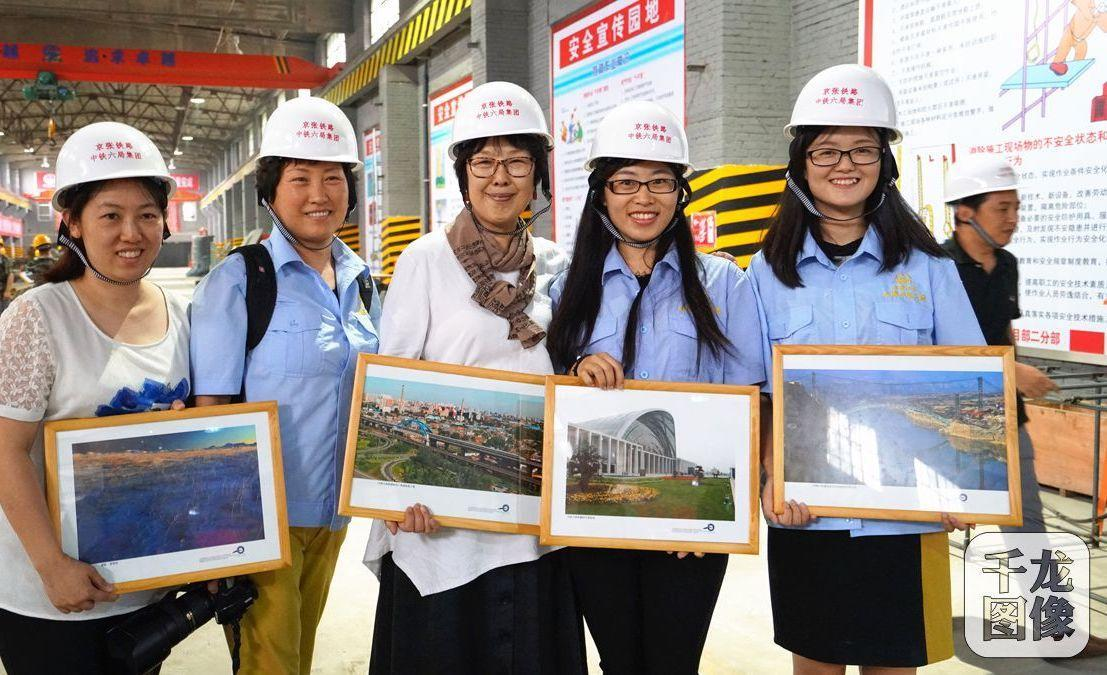helmet: (238, 106, 379, 169), (49, 122, 172, 193), (590, 103, 700, 166), (796, 67, 900, 133), (452, 79, 555, 143), (937, 153, 1027, 198)
no-gloves: (33, 554, 118, 612), (756, 483, 819, 528), (569, 349, 613, 395), (1008, 376, 1057, 401), (388, 505, 431, 530)
no-vest: (6, 289, 183, 583), (402, 250, 559, 540), (756, 249, 934, 497), (213, 261, 369, 536), (572, 268, 729, 498)
person: (378, 87, 588, 675), (195, 95, 406, 675), (565, 82, 758, 675), (765, 67, 952, 675), (0, 115, 202, 675), (940, 132, 1057, 539)
